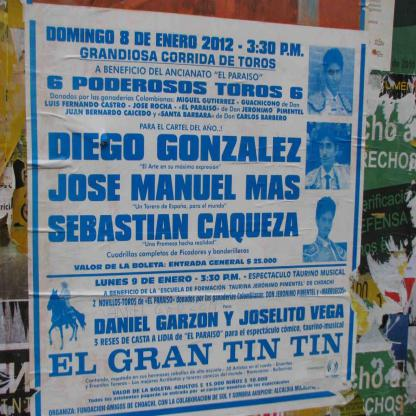face: (327, 64, 342, 92), (321, 138, 336, 166), (320, 212, 334, 238), (63, 284, 66, 290)
